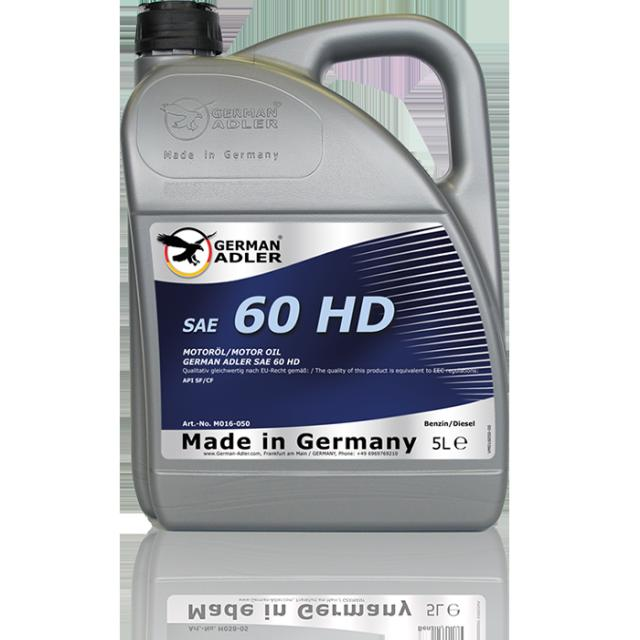motor_oil: (126, 0, 521, 547)
